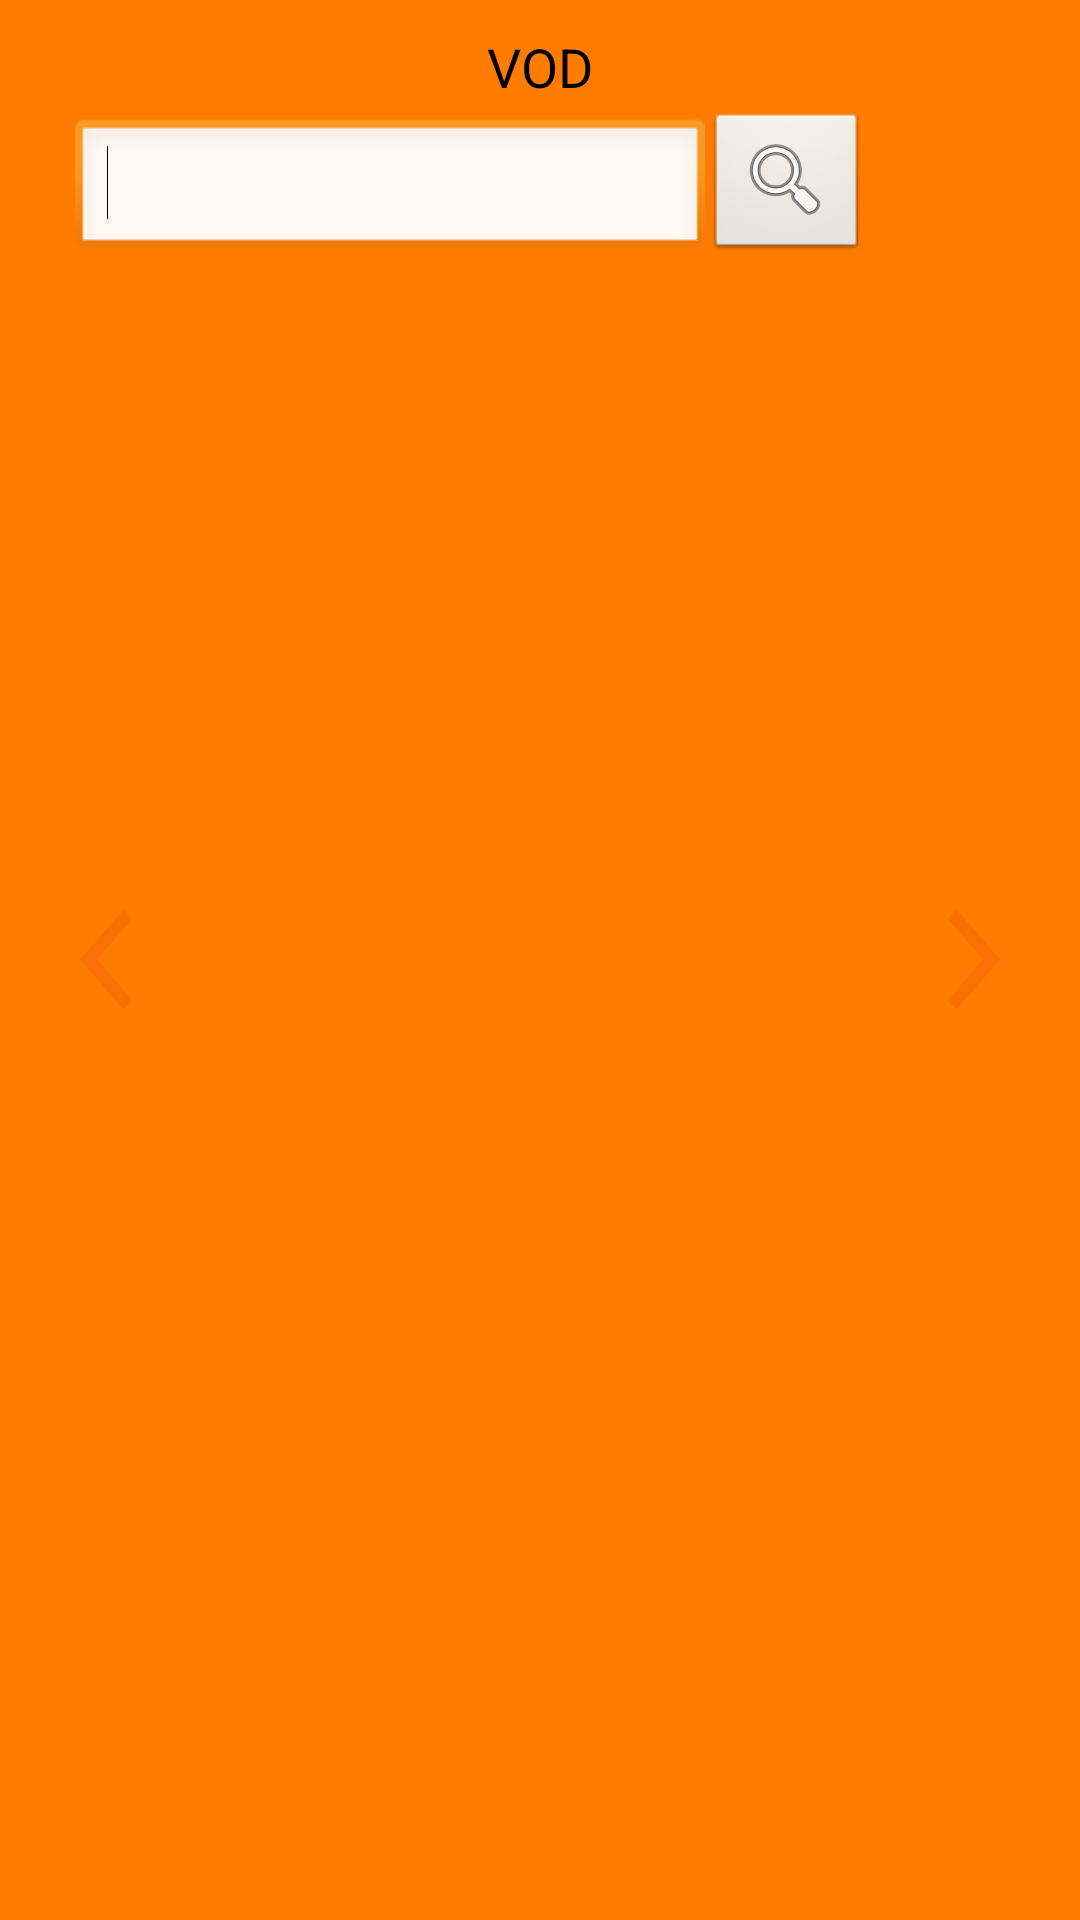

Named icons in this screenshot (1080x1920) and their centers, [x,y]:
search: [786,181]
